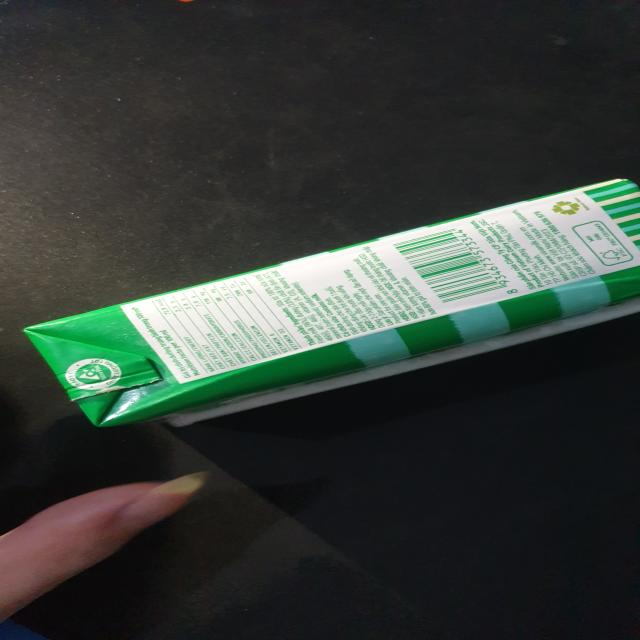Vina: (21, 174, 640, 426)
